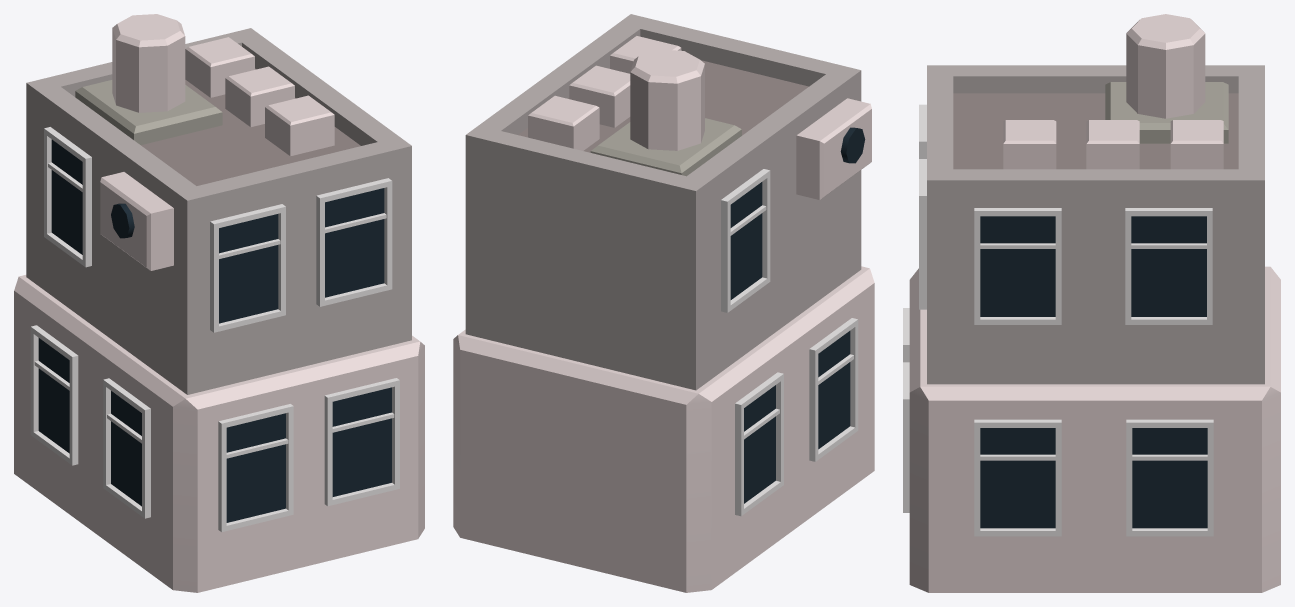
Rendered from building06.fbx.
3 renders of one model, left to right at view 1: azimuth 30°, elevation 25°; view 2: azimuth 150°, elevation 25°; view 3: azimuth 270°, elevation 25°, orthographic. The views are drawn at different scales.
Visible parts, largest first — view 1: building06; view 2: building06; view 3: building06.
Boxes of the visible parts, x1,y1,x2,y2 form: building06: [14, 14, 424, 592]; building06: [453, 14, 874, 592]; building06: [903, 14, 1280, 592].
Size of the model in its own units: 55.71 by 63.17 by 88.73.
